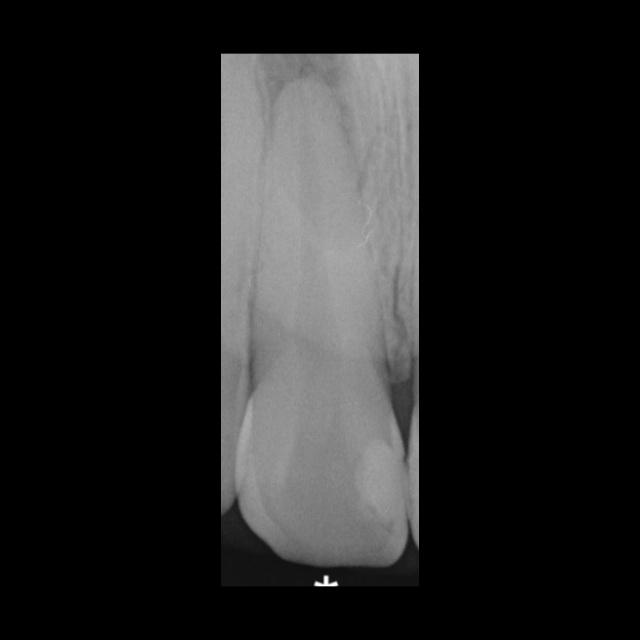tooth: (233, 78, 409, 568)
